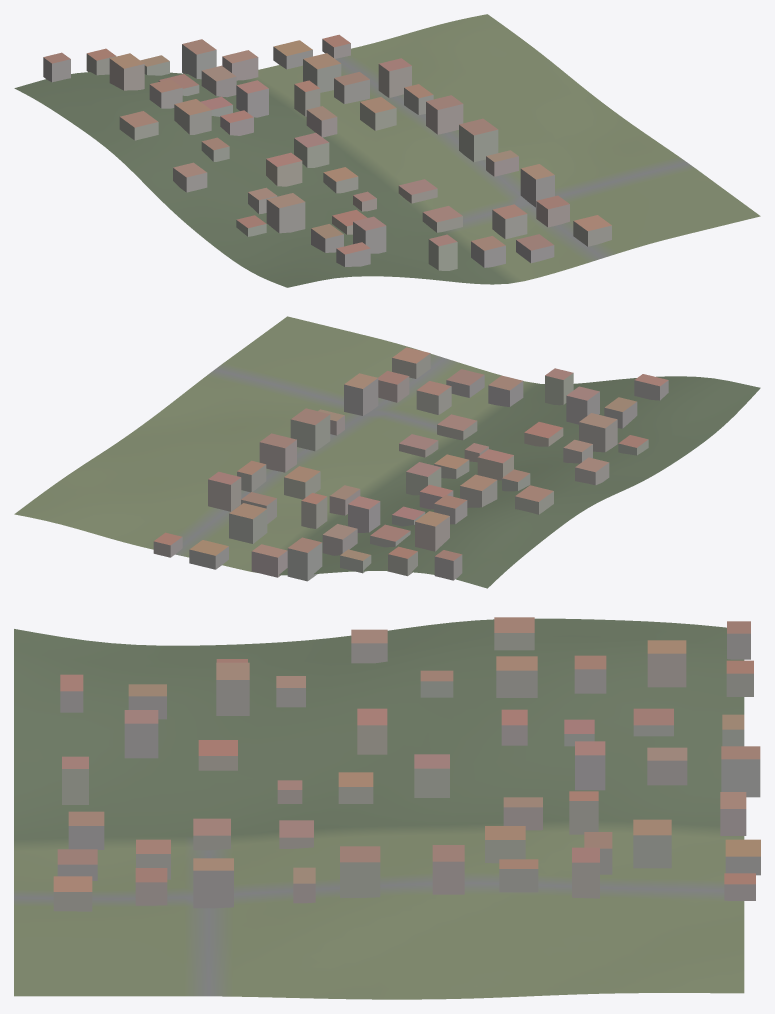
3 renders of one model, top to bottom at view 1: azimuth 30°, elevation 25°; view 2: azimuth 150°, elevation 25°; view 3: azimuth 270°, elevation 25°, orthographic. The views are drawn at different scales.
Bounding box in the file's own units: 300 × 47.54 × 307.
